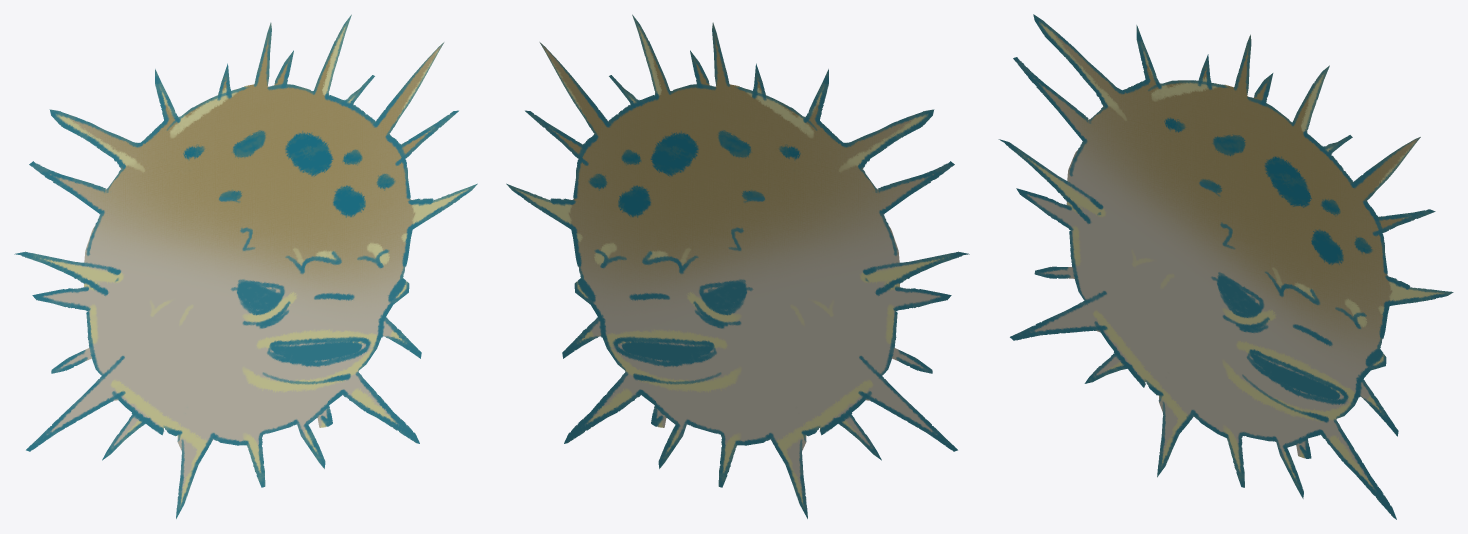
The model's file is puffer_3.fbx.
3 renders of one model, left to right at view 1: azimuth 30°, elevation 25°; view 2: azimuth 150°, elevation 25°; view 3: azimuth 330°, elevation 25°, orthographic.
Parts seen in each view (by area): view 1: mask32; view 2: mask32; view 3: mask32.
Boxes of the visible parts, box(x1,y1,x2,y2) form: mask32: box(14, 14, 477, 518); mask32: box(506, 14, 969, 518); mask32: box(998, 14, 1453, 519).
Bounding box in the file's own units: 9.56 × 9.35 × 5.73e-16.
1 material, 1 textured.
